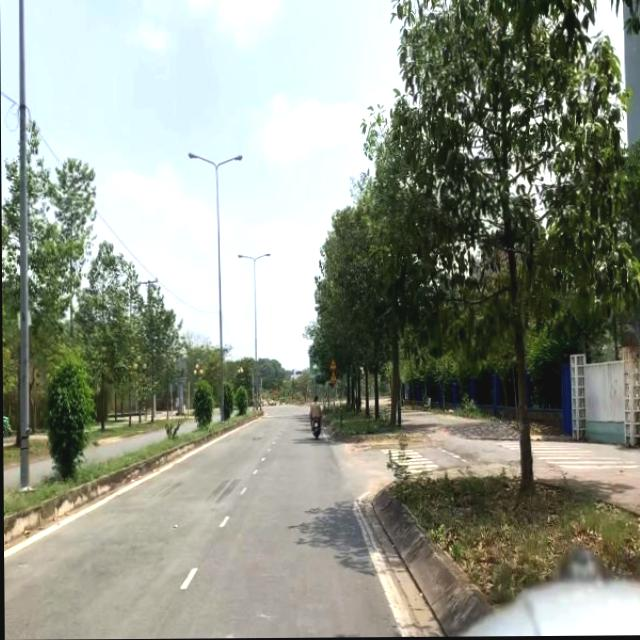Duong giao nhau cung cap: (329, 359, 337, 371)
Nguoi di bo cat ngang: (329, 371, 337, 383)
